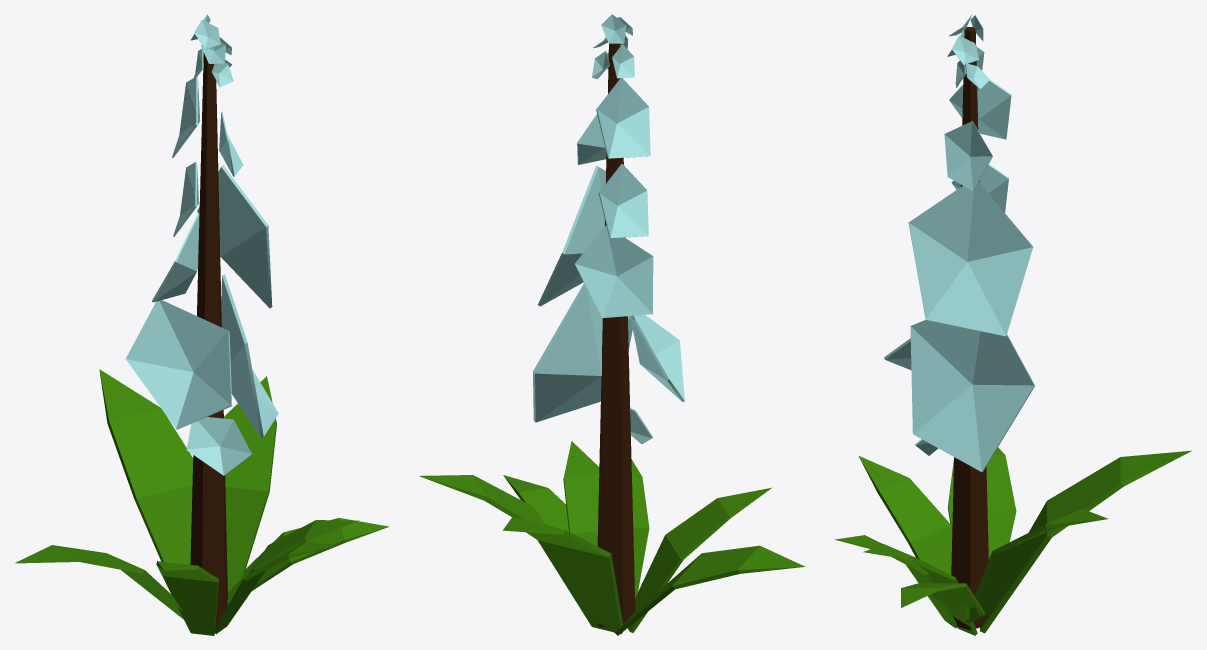
Rendered from Flower_e_02.fbx.
3 views of the same model, side by side, from view 1: azimuth 30°, elevation 25°; view 2: azimuth 150°, elevation 25°; view 3: azimuth 270°, elevation 25° (orthographic).
Parts seen in each view (by area): view 1: Flower_e_02_LOD0; view 2: Flower_e_02_LOD0; view 3: Flower_e_02_LOD0.
Part boxes in pixels (x1=…): Flower_e_02_LOD0: x1=15, y1=14, x2=388, y2=635; Flower_e_02_LOD0: x1=419, y1=14, x2=805, y2=635; Flower_e_02_LOD0: x1=835, y1=14, x2=1191, y2=635.
Size of what is drawn, in the model's own units: 2.07 by 3.58 by 1.9.
